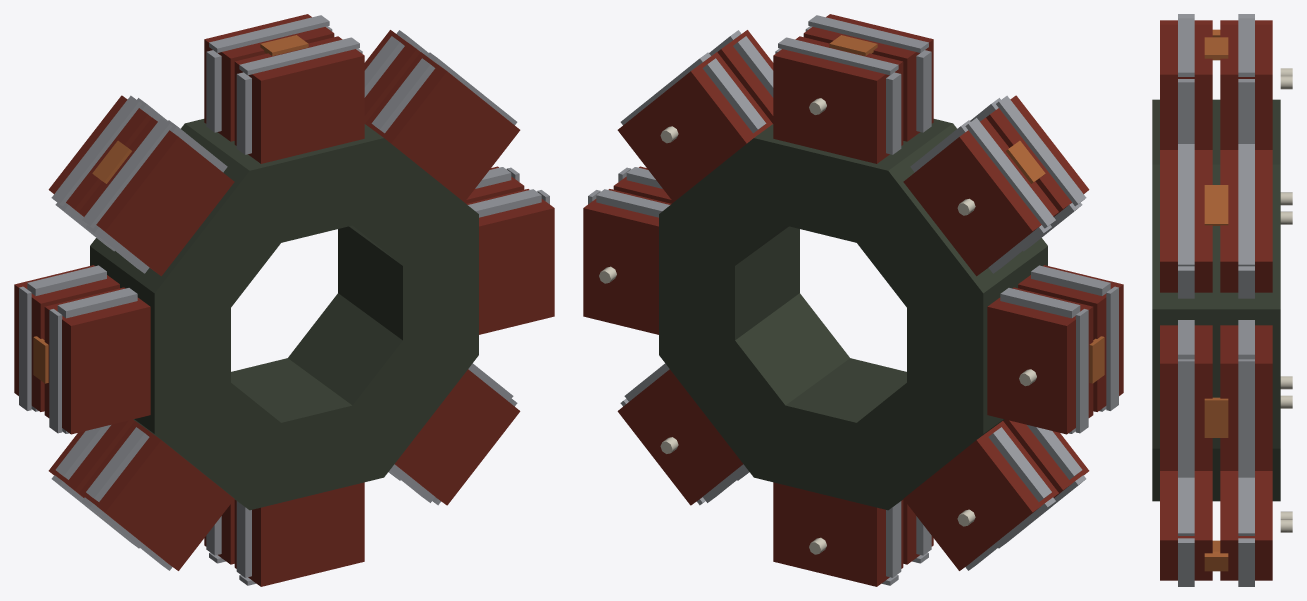
File: tz16v_coil_ring.obj
3 views of the same model, side by side, from view 1: azimuth 30°, elevation 25°; view 2: azimuth 150°, elevation 25°; view 3: azimuth 270°, elevation 25° (orthographic).
Parts seen in each view (by area): view 1: tz16v_coil_ring; view 2: tz16v_coil_ring; view 3: tz16v_coil_ring.
Boxes of the visible parts, x1,y1,x2,y2 form: tz16v_coil_ring: (14, 14, 554, 586); tz16v_coil_ring: (583, 14, 1123, 586); tz16v_coil_ring: (1152, 14, 1292, 586).
Bounding box in the file's own units: 2.85 × 2.85 × 0.7112.
